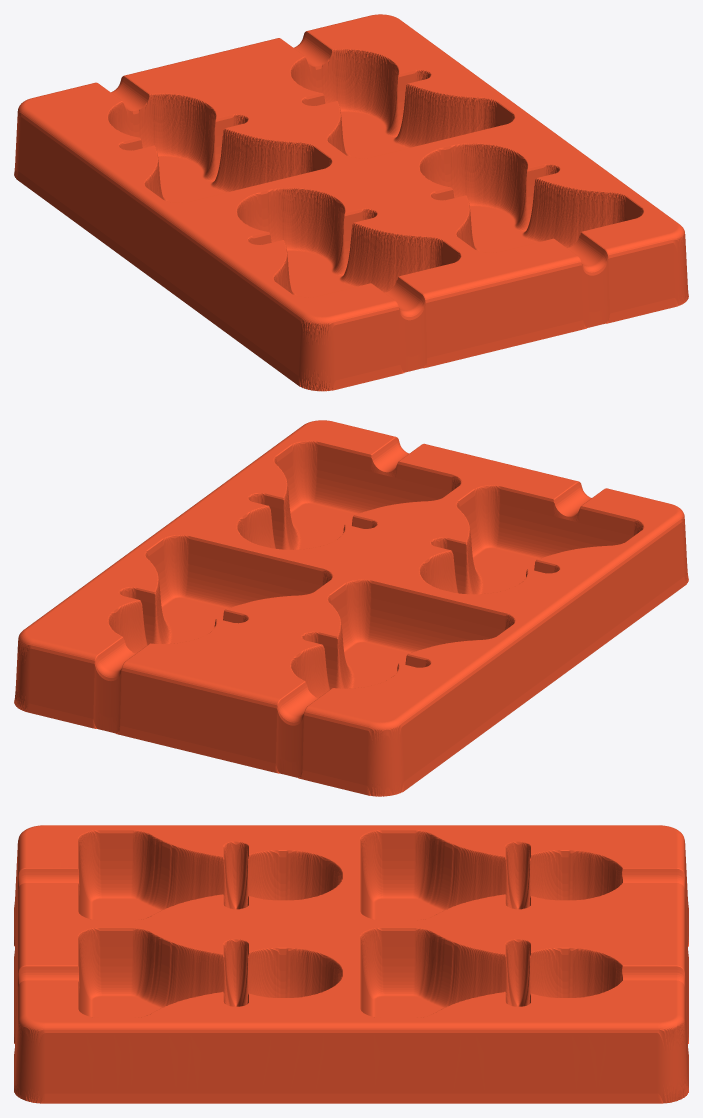
File: mold.glb
3 renders of one model, top to bottom at view 1: azimuth 30°, elevation 25°; view 2: azimuth 150°, elevation 25°; view 3: azimuth 270°, elevation 25°, orthographic. The views are drawn at different scales.
Parts seen in each view (by area): view 1: geometry_0; view 2: geometry_0; view 3: geometry_0.
Part boxes in pixels (x1=…): geometry_0: x1=14, y1=14, x2=688, y2=391; geometry_0: x1=14, y1=420, x2=688, y2=796; geometry_0: x1=14, y1=825, x2=688, y2=1103.
Size of the model in its own units: 0.1427 by 0.0245 by 0.1968.
